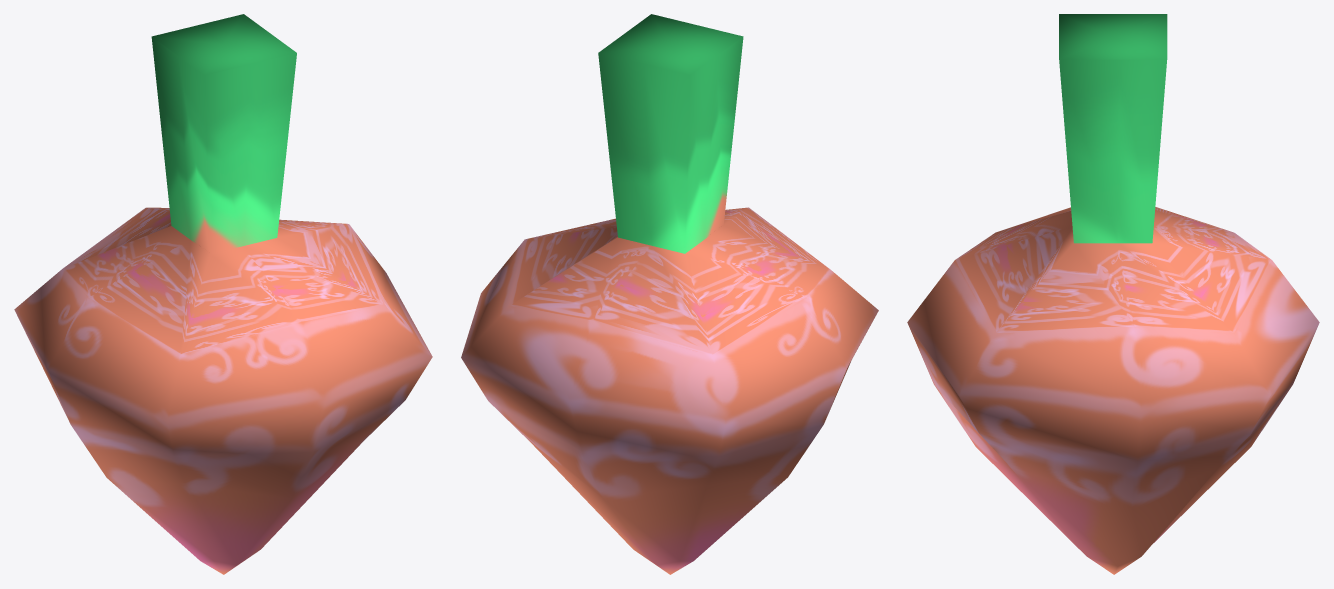
File: carrot_radish.fbx
The picture shows the model from 3 angles, left to right: view 1: azimuth 30°, elevation 25°; view 2: azimuth 150°, elevation 25°; view 3: azimuth 270°, elevation 25°; orthographic projection.
Parts seen in each view (by area): view 1: Cube.005; view 2: Cube.005; view 3: Cube.005.
Part boxes in pixels (left/top/right/bottom): Cube.005: left=14, top=14, right=432, bottom=574; Cube.005: left=461, top=14, right=878, bottom=574; Cube.005: left=907, top=14, right=1319, bottom=574.
Bounding box in the file's own units: 166 × 239 × 166.
Materials: 1 (1 with a texture image).
